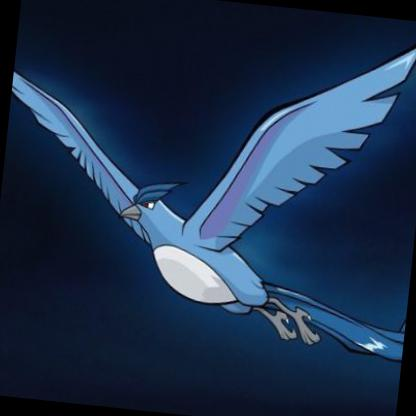Articuno: (46, 8, 416, 416)
